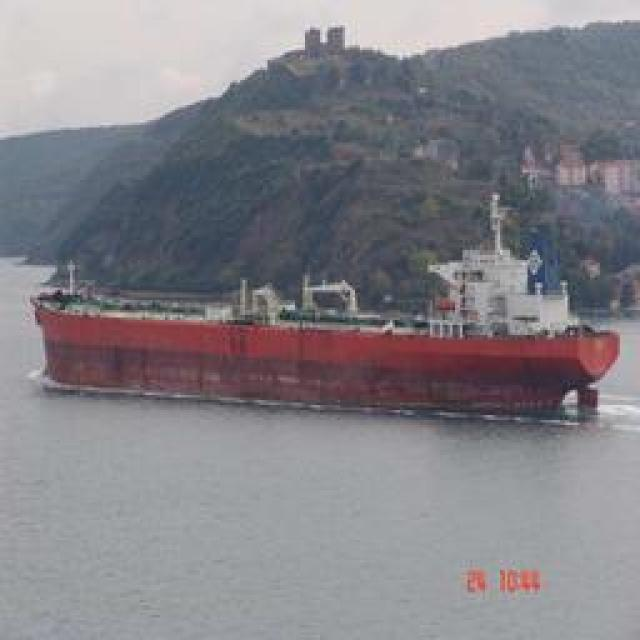CIV_Ship: (21, 274, 624, 418)
